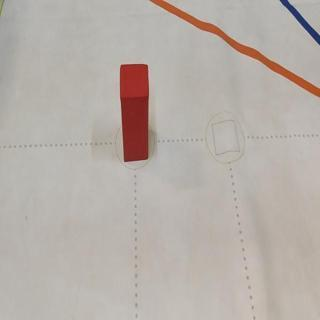redbox: (119, 61, 150, 162)
